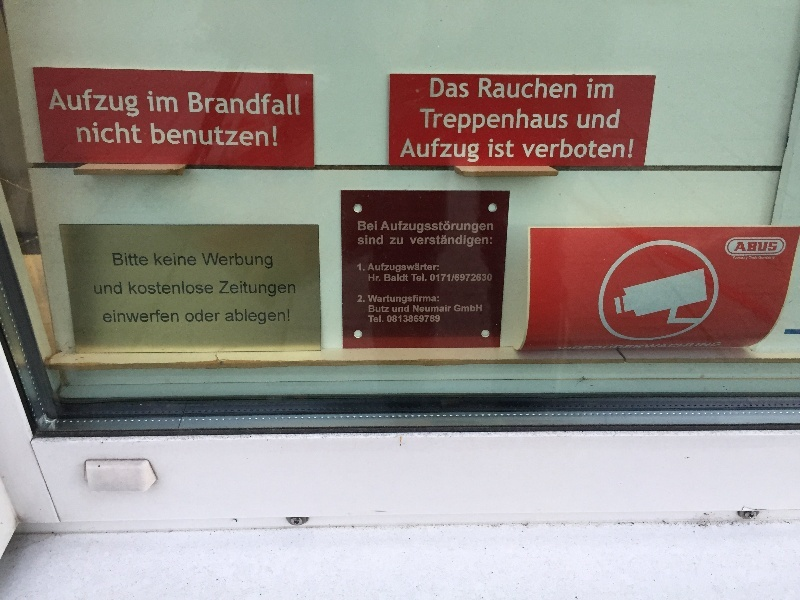text: (65, 87, 80, 119), (81, 87, 96, 119), (97, 87, 112, 119), (113, 87, 128, 119), (465, 136, 481, 164), (161, 121, 176, 150), (177, 121, 192, 150), (193, 121, 208, 150), (209, 121, 224, 150), (225, 121, 240, 150), (241, 121, 256, 150), (257, 121, 272, 150), (433, 107, 448, 136), (449, 107, 464, 136), (465, 107, 480, 136), (481, 107, 496, 136), (497, 107, 512, 136), (513, 107, 528, 136), (529, 107, 544, 136), (545, 107, 560, 136), (417, 136, 432, 164), (433, 136, 448, 164), (449, 136, 464, 164), (418, 107, 432, 136), (193, 90, 208, 117), (209, 90, 224, 117), (225, 90, 240, 117), (241, 90, 256, 117), (257, 90, 272, 117), (273, 90, 288, 117), (81, 121, 96, 148), (97, 121, 112, 148), (113, 121, 128, 148), (129, 121, 144, 148), (481, 76, 496, 103), (497, 76, 512, 103), (513, 76, 528, 103), (529, 76, 544, 103), (545, 76, 560, 103), (561, 76, 576, 103), (433, 76, 448, 102), (449, 76, 464, 102), (129, 87, 141, 119), (593, 77, 608, 102), (161, 90, 176, 114), (577, 108, 592, 132), (593, 108, 608, 132), (497, 137, 512, 161), (289, 90, 302, 117), (146, 90, 160, 114), (609, 108, 623, 132), (529, 138, 544, 160), (545, 138, 560, 160), (561, 138, 576, 160), (577, 138, 592, 160), (593, 138, 608, 160), (609, 138, 624, 160), (54, 87, 64, 119), (149, 121, 160, 150), (625, 138, 638, 160), (209, 251, 224, 270), (225, 251, 240, 270), (241, 251, 256, 270), (257, 251, 272, 270), (225, 279, 240, 298), (241, 279, 256, 298), (257, 279, 272, 298), (273, 279, 288, 298), (225, 307, 240, 326), (241, 307, 256, 326), (257, 307, 272, 326), (273, 307, 288, 326), (406, 136, 416, 164), (561, 107, 570, 136), (161, 251, 176, 268), (177, 251, 192, 268), (97, 280, 112, 297), (129, 279, 144, 296), (145, 279, 160, 296), (161, 279, 176, 296), (177, 279, 192, 296), (193, 279, 208, 296), (113, 252, 128, 268), (129, 252, 144, 268), (385, 219, 400, 235), (401, 219, 416, 235), (417, 219, 432, 235), (433, 219, 448, 235), (449, 219, 464, 235), (465, 219, 480, 235), (481, 219, 496, 235), (417, 233, 432, 249), (433, 233, 448, 249), (449, 233, 464, 249), (465, 233, 480, 249), (193, 308, 208, 324), (273, 121, 281, 150), (113, 309, 128, 324), (129, 309, 144, 324), (145, 309, 160, 324), (161, 309, 176, 324), (481, 233, 495, 249), (113, 280, 126, 297), (72, 121, 80, 148), (487, 137, 496, 161), (369, 234, 384, 248), (465, 302, 480, 316), (209, 308, 222, 324), (609, 77, 617, 102), (519, 138, 528, 160), (465, 76, 472, 102), (369, 262, 384, 274), (385, 262, 400, 274), (401, 262, 416, 274), (417, 262, 432, 274), (369, 293, 384, 305), (385, 293, 400, 305), (401, 293, 416, 305), (417, 293, 432, 305), (369, 313, 384, 325), (401, 314, 416, 326), (417, 314, 432, 326), (737, 241, 752, 253), (753, 241, 768, 253), (199, 251, 208, 270), (385, 273, 400, 284), (465, 273, 480, 284), (369, 303, 384, 314), (417, 304, 432, 315), (433, 304, 448, 315), (101, 309, 112, 324), (369, 272, 382, 284), (387, 314, 400, 326), (357, 219, 368, 233), (357, 234, 368, 248), (453, 302, 464, 316), (289, 279, 297, 298), (586, 77, 592, 102), (433, 273, 448, 283), (451, 272, 464, 283), (481, 273, 494, 284), (369, 219, 379, 233), (152, 251, 160, 268), (187, 90, 192, 117), (389, 236, 400, 248), (417, 272, 428, 284), (356, 293, 368, 304), (769, 241, 780, 253), (357, 262, 368, 273), (401, 304, 412, 315), (513, 137, 518, 161), (218, 279, 224, 298), (409, 233, 416, 249), (185, 308, 192, 324), (454, 273, 464, 284), (433, 314, 442, 326), (193, 251, 199, 268), (401, 273, 410, 284), (433, 262, 441, 274), (433, 293, 441, 305), (392, 304, 400, 315), (209, 279, 214, 296), (737, 255, 749, 262), (577, 76, 580, 103), (145, 252, 150, 268), (429, 76, 432, 102), (177, 90, 180, 114), (385, 303, 391, 314), (411, 272, 416, 284), (758, 255, 768, 261), (177, 309, 181, 324), (289, 307, 292, 326), (478, 76, 480, 103), (93, 280, 96, 297), (401, 236, 405, 248), (449, 304, 453, 315), (481, 302, 484, 316), (769, 255, 776, 261), (273, 251, 275, 270), (126, 279, 128, 296), (413, 304, 416, 315), (110, 252, 112, 268), (429, 273, 432, 283), (449, 273, 452, 283), (753, 255, 758, 261), (145, 121, 146, 148), (733, 255, 736, 262), (749, 255, 752, 261), (383, 219, 384, 235), (385, 234, 386, 248), (367, 272, 368, 284), (385, 313, 386, 325)
